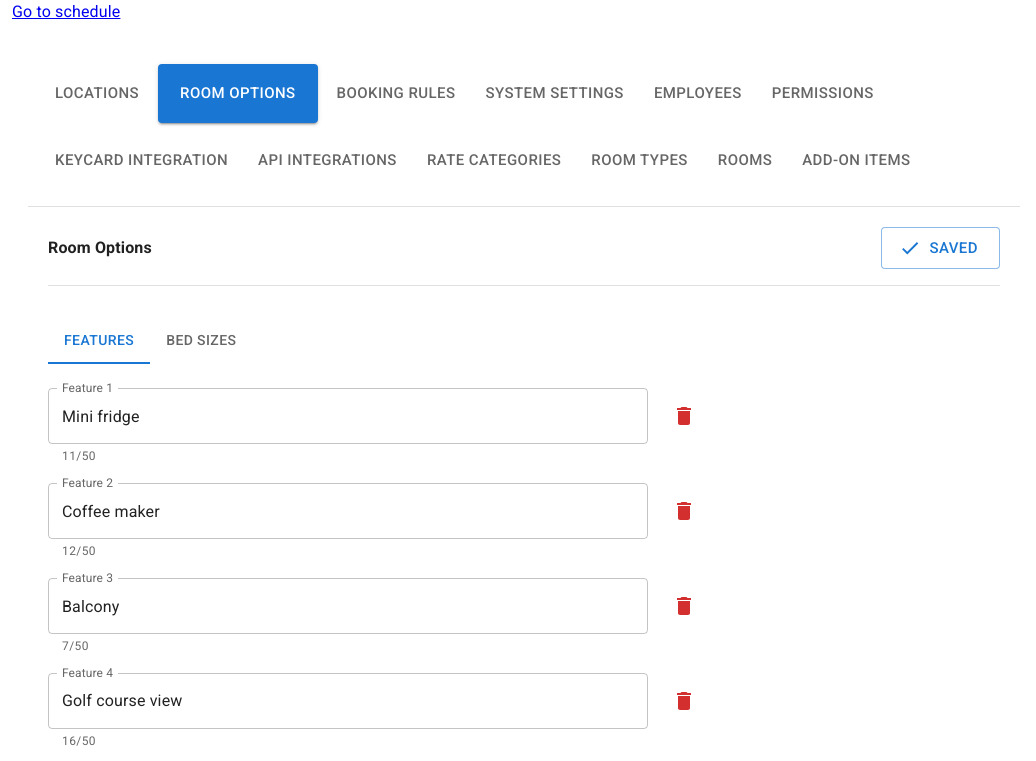
Test: Room Options page › switches to the Bed Sizes tab and labels its button "Add Bed Size"
The width and height of the screenshot is (1036, 761).
Step 1. Click the tab "Bed Sizes" → {"x": 201, "y": 340}, box [150,316,252,364]
(page scrolled)
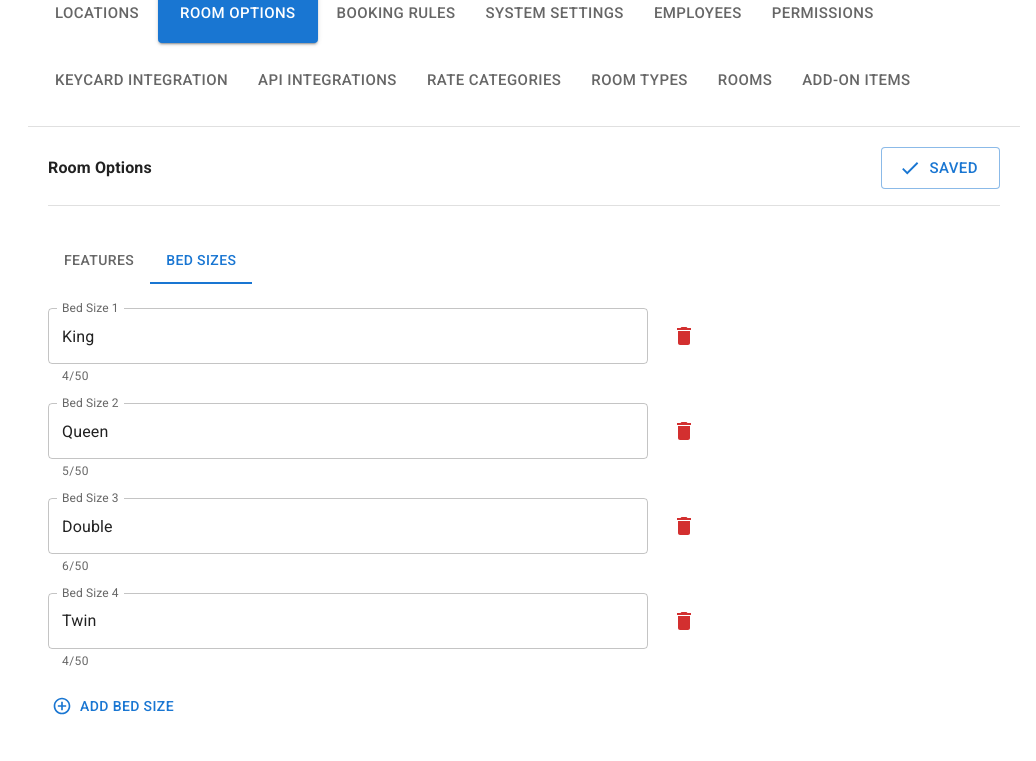
Check: the number of fields labelled "Bed Size 1" is 4, box [48,308,648,364]; [48,403,648,459]; [48,498,648,554]; [48,593,648,649]
Check: the button "Add Bed Size" is shown, box [48,688,182,724]
